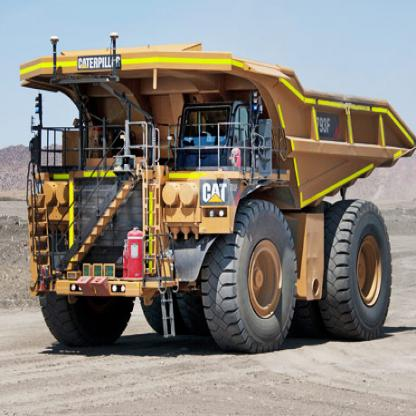dump_truck: (12, 32, 415, 352)
